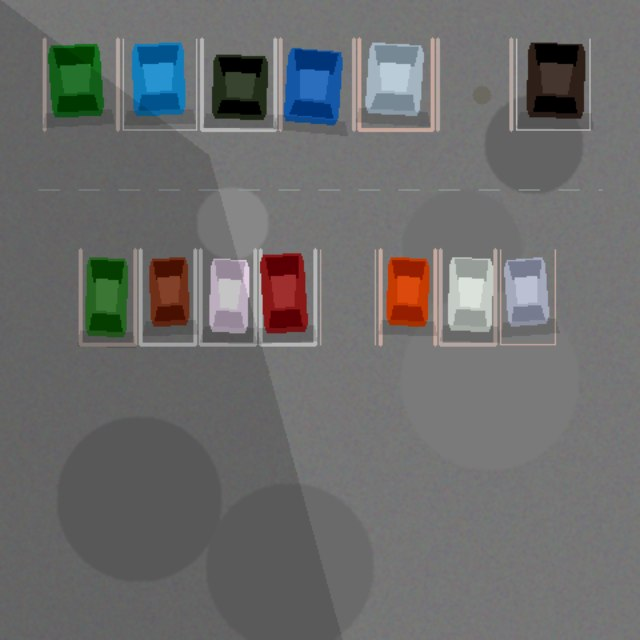space-empty: (437, 39, 511, 129), (320, 249, 375, 344)
space-occupied: (201, 39, 275, 129), (44, 39, 117, 129), (123, 39, 196, 129), (280, 39, 353, 129), (359, 39, 432, 129), (516, 39, 589, 129), (80, 249, 135, 344), (140, 249, 195, 344), (200, 249, 255, 344), (260, 249, 315, 344), (380, 249, 435, 344), (440, 249, 495, 344), (500, 249, 555, 344)
